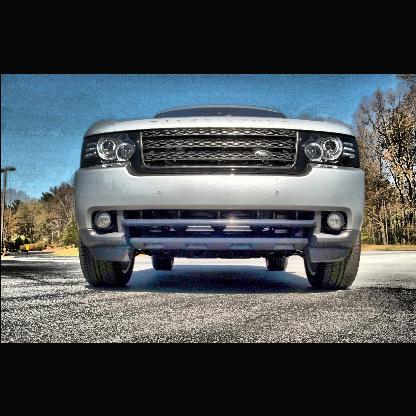Land Rover Range Rover SUV 2012: (75, 103, 368, 295)
